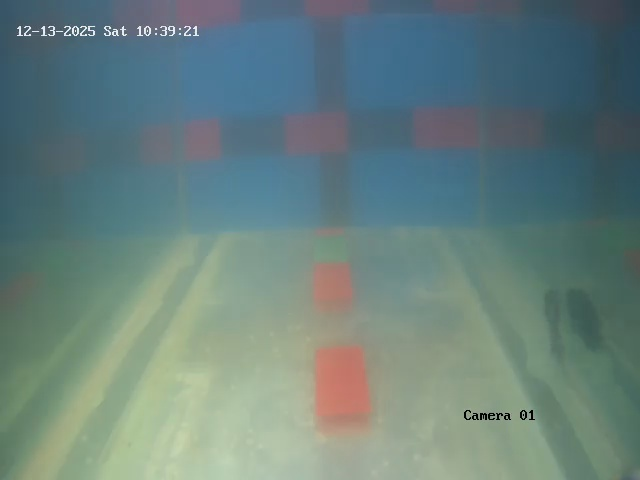fish: (533, 273, 566, 363)
